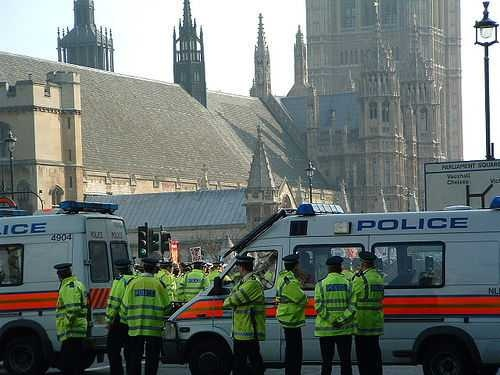Police Van: (153, 199, 500, 361), (4, 197, 128, 350)
